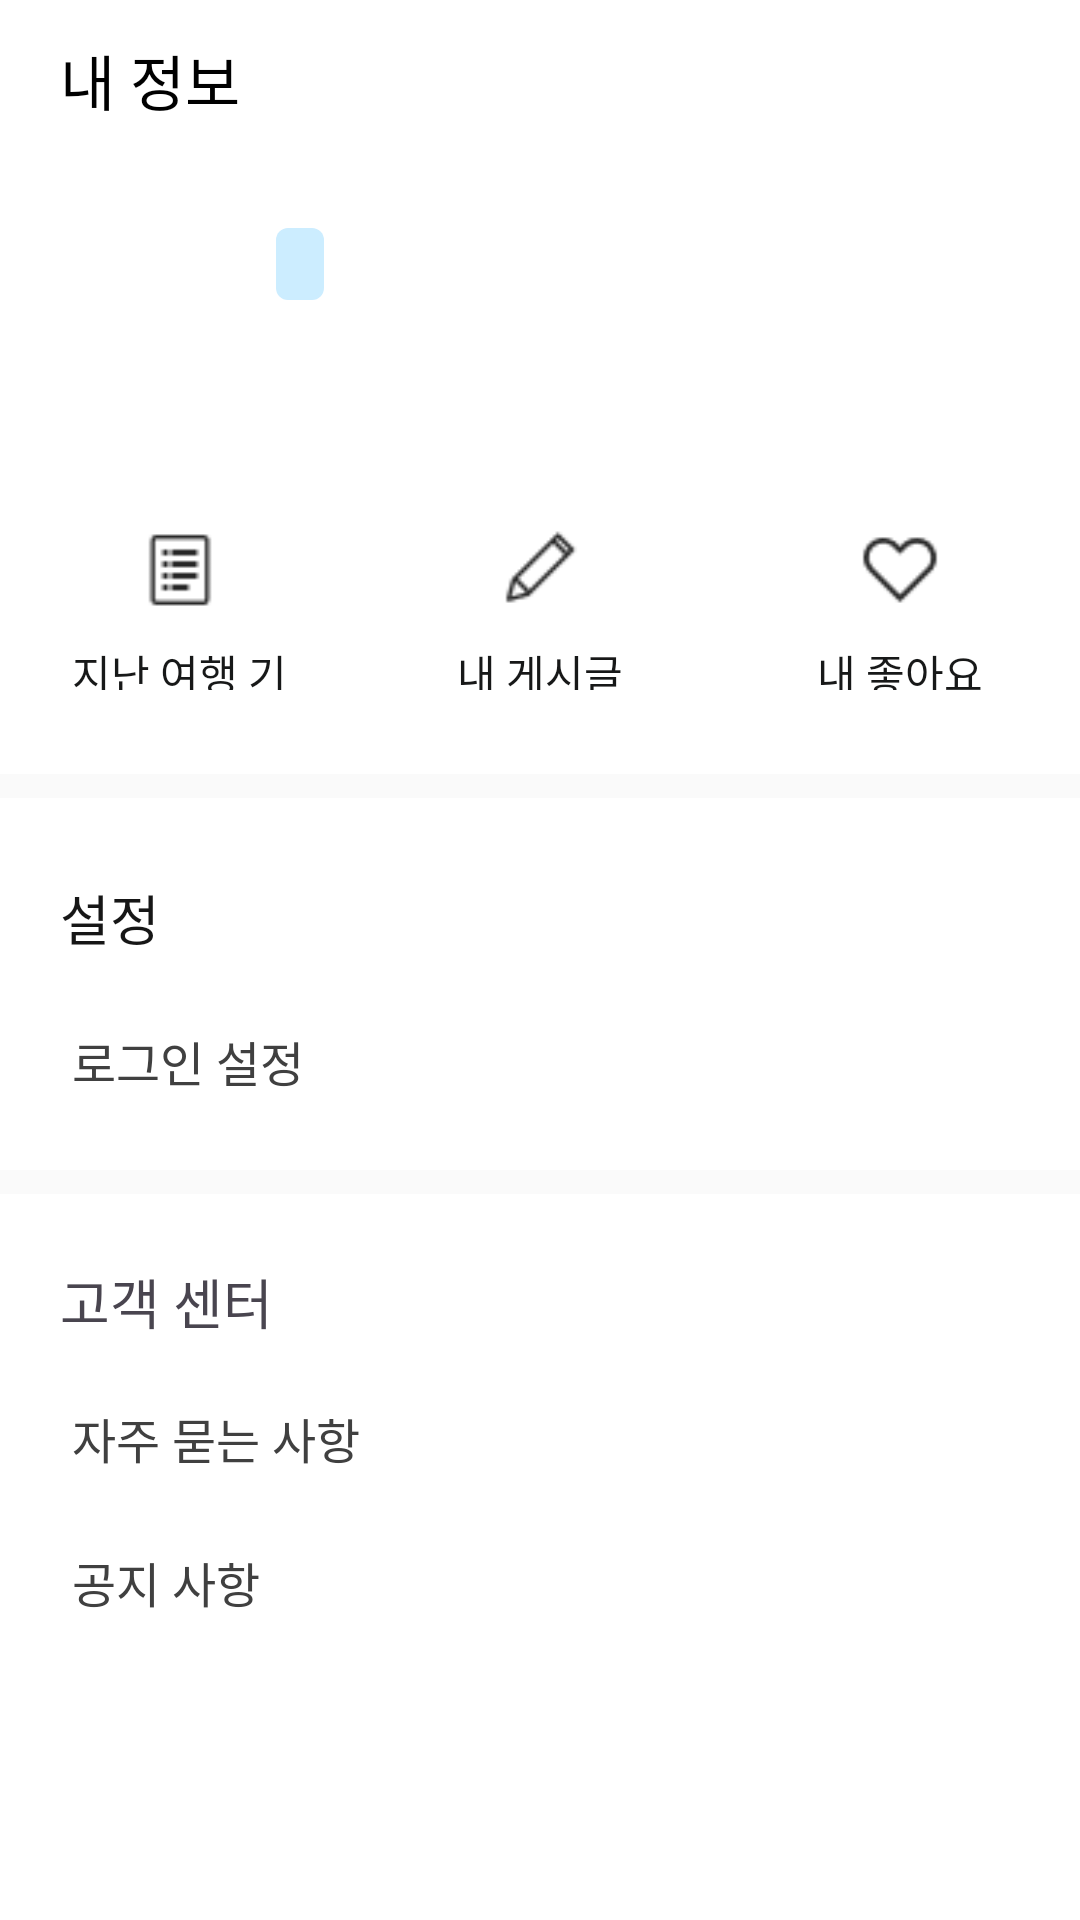

Point at icon controls on the screen. Image size 1080*1920, points as (x,y).
info history: (180,570)
info like: (900,570)
info post: (540,567)
